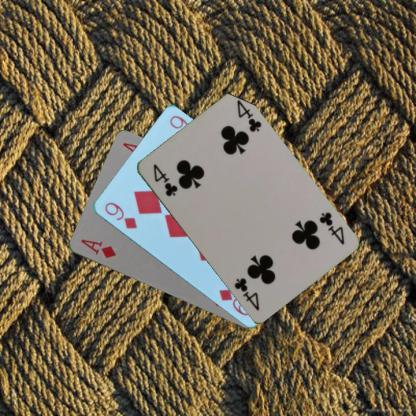4c: (316, 209, 346, 246), (150, 160, 179, 198)
9d: (102, 200, 138, 231)
Ad: (78, 236, 117, 260)
